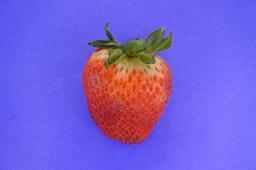red strawberry: (82, 39, 174, 146)
